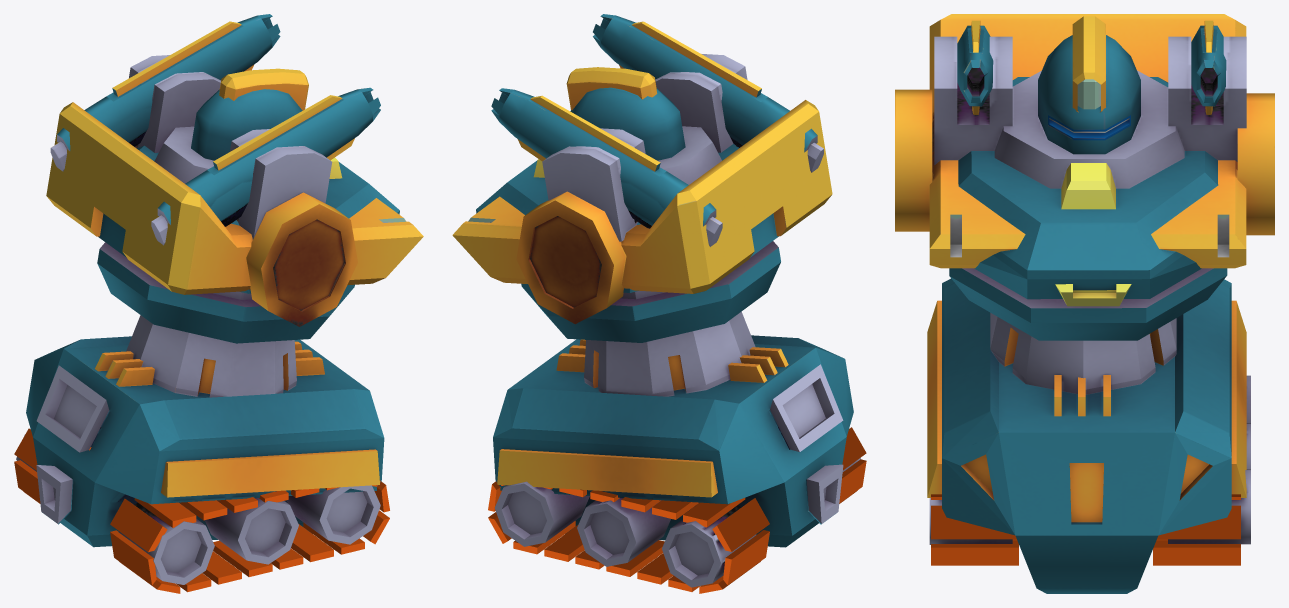
File: Player_Move13.obj
3 renders of one model, left to right at view 1: azimuth 30°, elevation 25°; view 2: azimuth 150°, elevation 25°; view 3: azimuth 270°, elevation 25°, orthographic. The views are drawn at different scales.
Visible parts, largest first — view 1: Object004, Object014, Box009, Box017, Box016; view 2: Object004, Object014, Box009, Box016, Box017; view 3: Object004, Object014, Box017, Box016, Box009.
Part boxes in pixels (x1,y1,x2,y2): Object004: (26,55,423,547); Object014: (50,14,380,245); Box009: (16,434,380,584); Box017: (110,480,389,593); Box016: (14,428,91,503); Object004: (452,54,853,547); Object014: (491,14,823,246); Box009: (495,458,860,587); Box016: (488,480,769,593); Box017: (839,427,866,503); Object004: (895,14,1274,593); Object014: (957,20,1226,114); Box017: (931,494,1018,565); Box016: (1153,494,1240,565); Box009: (929,375,1250,544).
Size of the model in its own units: 60.24 by 82.24 by 52.49.
